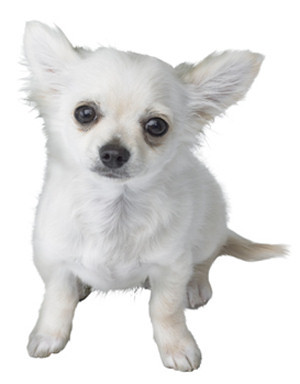dog: (15, 17, 289, 374)
